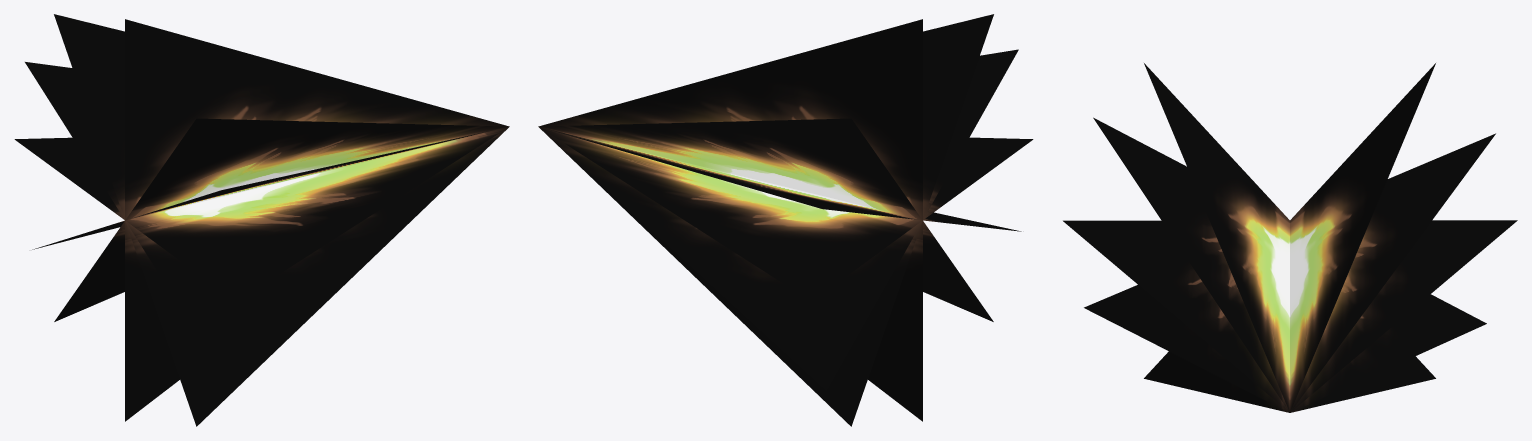
Rendered from MuzzleFlash.glb.
3 renders of one model, left to right at view 1: azimuth 30°, elevation 25°; view 2: azimuth 150°, elevation 25°; view 3: azimuth 270°, elevation 25°, orthographic. The views are drawn at different scales.
Parts seen in each view (by area): view 1: Plane.003; view 2: Plane.003; view 3: Plane.003.
Boxes of the visible parts, box(x1,y1,x2,y2) form: Plane.003: box(14, 14, 509, 426); Plane.003: box(538, 14, 1033, 426); Plane.003: box(1063, 63, 1517, 412).
Size of the model in its own units: 1.27 by 1.27 by 1.27.
Materials: 1 (1 with a texture image).
